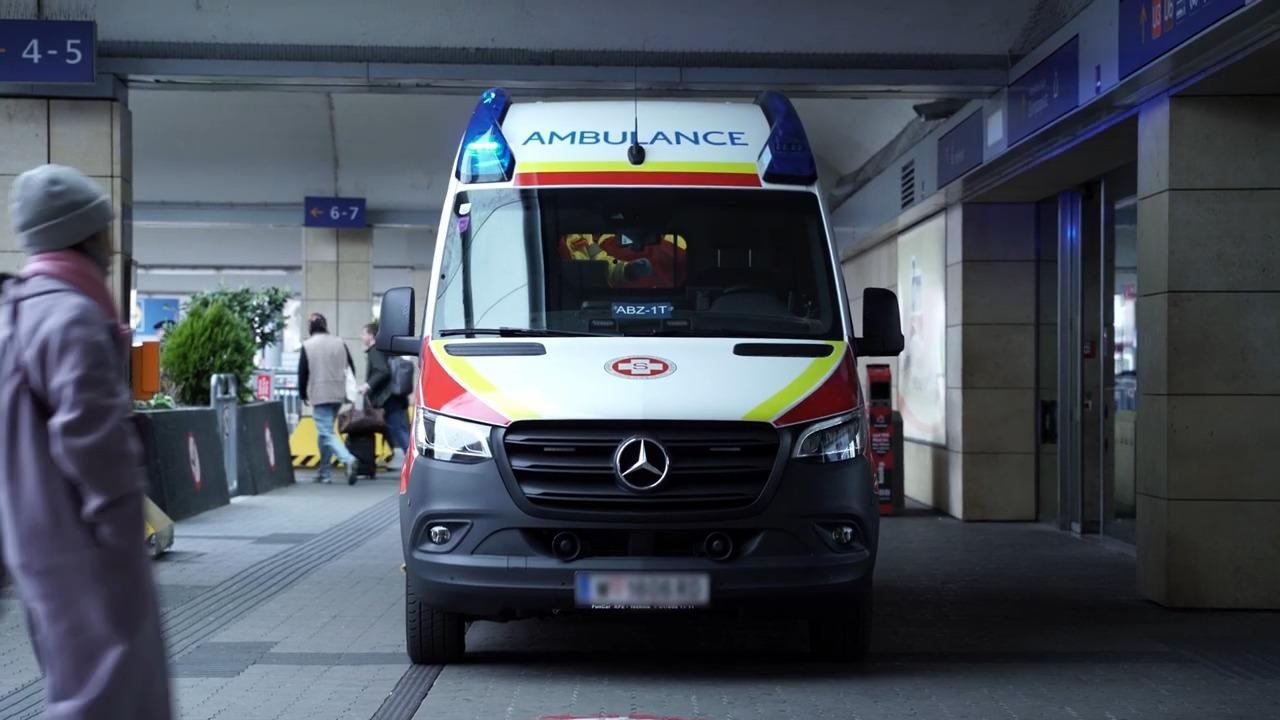car: (377, 83, 901, 667)
